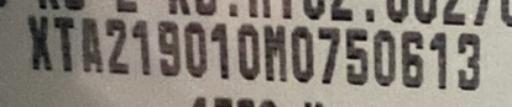letter: (454, 29, 482, 92), (182, 19, 210, 80), (370, 28, 398, 89), (78, 15, 106, 74), (261, 23, 289, 82), (288, 24, 316, 83), (314, 26, 342, 85), (398, 26, 424, 89), (26, 14, 54, 71), (104, 17, 130, 76), (156, 19, 182, 78), (236, 20, 260, 83), (344, 26, 368, 89), (52, 15, 76, 74), (130, 18, 154, 77), (428, 26, 448, 91), (209, 22, 231, 81)
